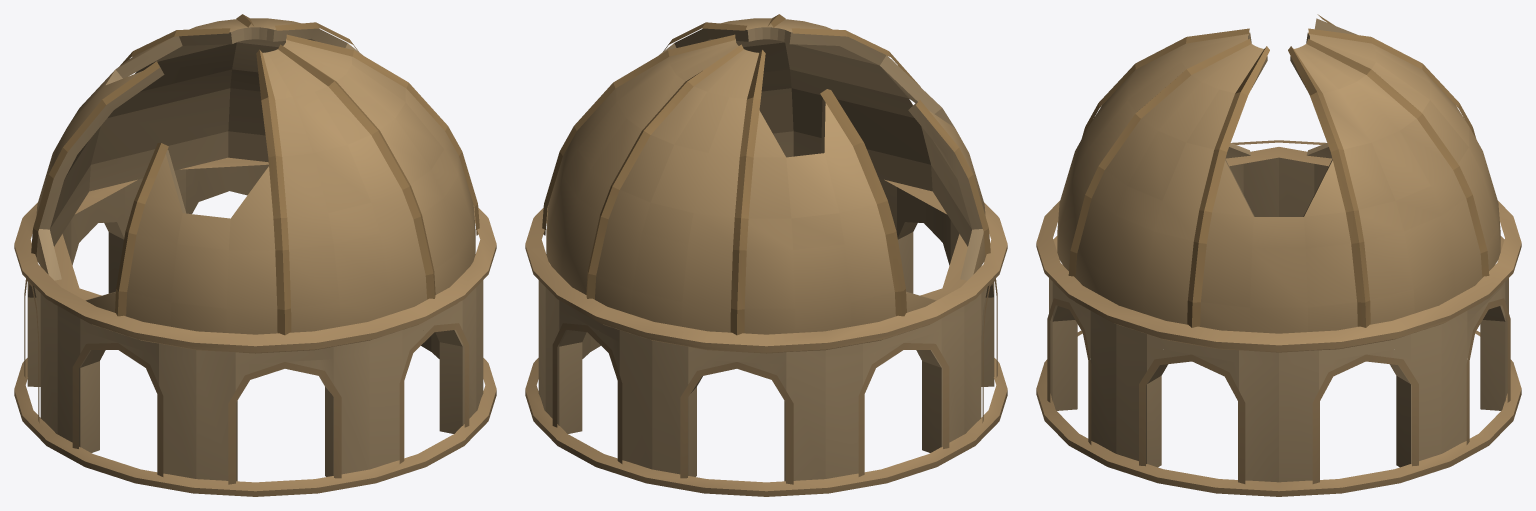
File: dome.ruin_8.sandstone.glb
3 views of the same model, side by side, from view 1: azimuth 30°, elevation 25°; view 2: azimuth 150°, elevation 25°; view 3: azimuth 270°, elevation 25° (orthographic).
Parts seen in each view (by area): view 1: dome_ruin_8_sandstone; view 2: dome_ruin_8_sandstone; view 3: dome_ruin_8_sandstone.
Boxes of the visible parts, x1,y1,x2,y2 form: dome_ruin_8_sandstone: [14, 14, 496, 496]; dome_ruin_8_sandstone: [525, 14, 1007, 496]; dome_ruin_8_sandstone: [1036, 14, 1521, 496].
Size of what is drawn, in the model's own units: 7.6 by 6.23 by 7.6.
